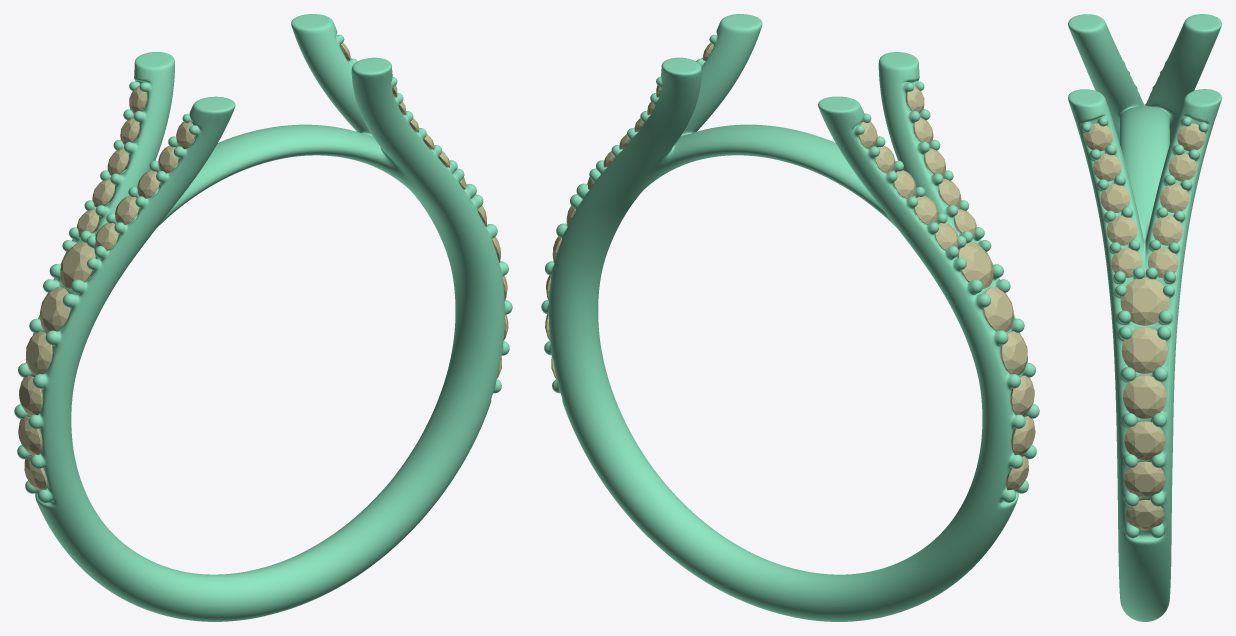
The picture shows the model from 3 angles, left to right: view 1: azimuth 30°, elevation 25°; view 2: azimuth 150°, elevation 25°; view 3: azimuth 270°, elevation 25°; orthographic projection. The views are drawn at different scales.
Parts seen in each view (by area): view 1: Metal02, Diamond_Gem.003, Diamond_Gem.004, Diamond_Gem.005, Diamond_Gem.007; view 2: Metal02, Diamond_Gem.003, Diamond_Gem.004, Diamond_Gem.005, Diamond_Gem.007; view 3: Metal02, Diamond_Gem.028, Diamond_Gem.027, Diamond_Gem.026, Diamond_Gem.024, Diamond_Gem.023, Diamond_Gem.025, Diamond_Gem.017, Diamond_Gem.030, Diamond_Gem.016, Diamond_Gem.031, Diamond_Gem.029 (+5 smaller).
Part boxes in pixels (bbox=[...]): Metal02: bbox=[14, 14, 512, 621]; Diamond_Gem.003: bbox=[60, 241, 95, 288]; Diamond_Gem.004: bbox=[39, 287, 70, 332]; Diamond_Gem.005: bbox=[25, 331, 52, 375]; Diamond_Gem.007: bbox=[19, 375, 43, 416]; Metal02: bbox=[541, 14, 1039, 621]; Diamond_Gem.003: bbox=[958, 241, 993, 288]; Diamond_Gem.004: bbox=[983, 287, 1013, 332]; Diamond_Gem.005: bbox=[1000, 331, 1027, 375]; Diamond_Gem.007: bbox=[1010, 375, 1034, 416]; Metal02: bbox=[1068, 14, 1221, 621]; Diamond_Gem.028: bbox=[1120, 277, 1169, 325]; Diamond_Gem.027: bbox=[1121, 327, 1167, 373]; Diamond_Gem.026: bbox=[1123, 375, 1166, 418]; Diamond_Gem.024: bbox=[1124, 421, 1165, 459]; Diamond_Gem.023: bbox=[1124, 461, 1165, 497]; Diamond_Gem.025: bbox=[1126, 499, 1164, 530]; Diamond_Gem.017: bbox=[1152, 215, 1183, 245]; Diamond_Gem.030: bbox=[1106, 215, 1137, 245]; Diamond_Gem.016: bbox=[1160, 184, 1189, 212]; Diamond_Gem.031: bbox=[1100, 184, 1129, 212]; Diamond_Gem.029: bbox=[1111, 248, 1141, 277].
Bounding box in the file's own units: 21.15 × 23.09 × 5.99.
